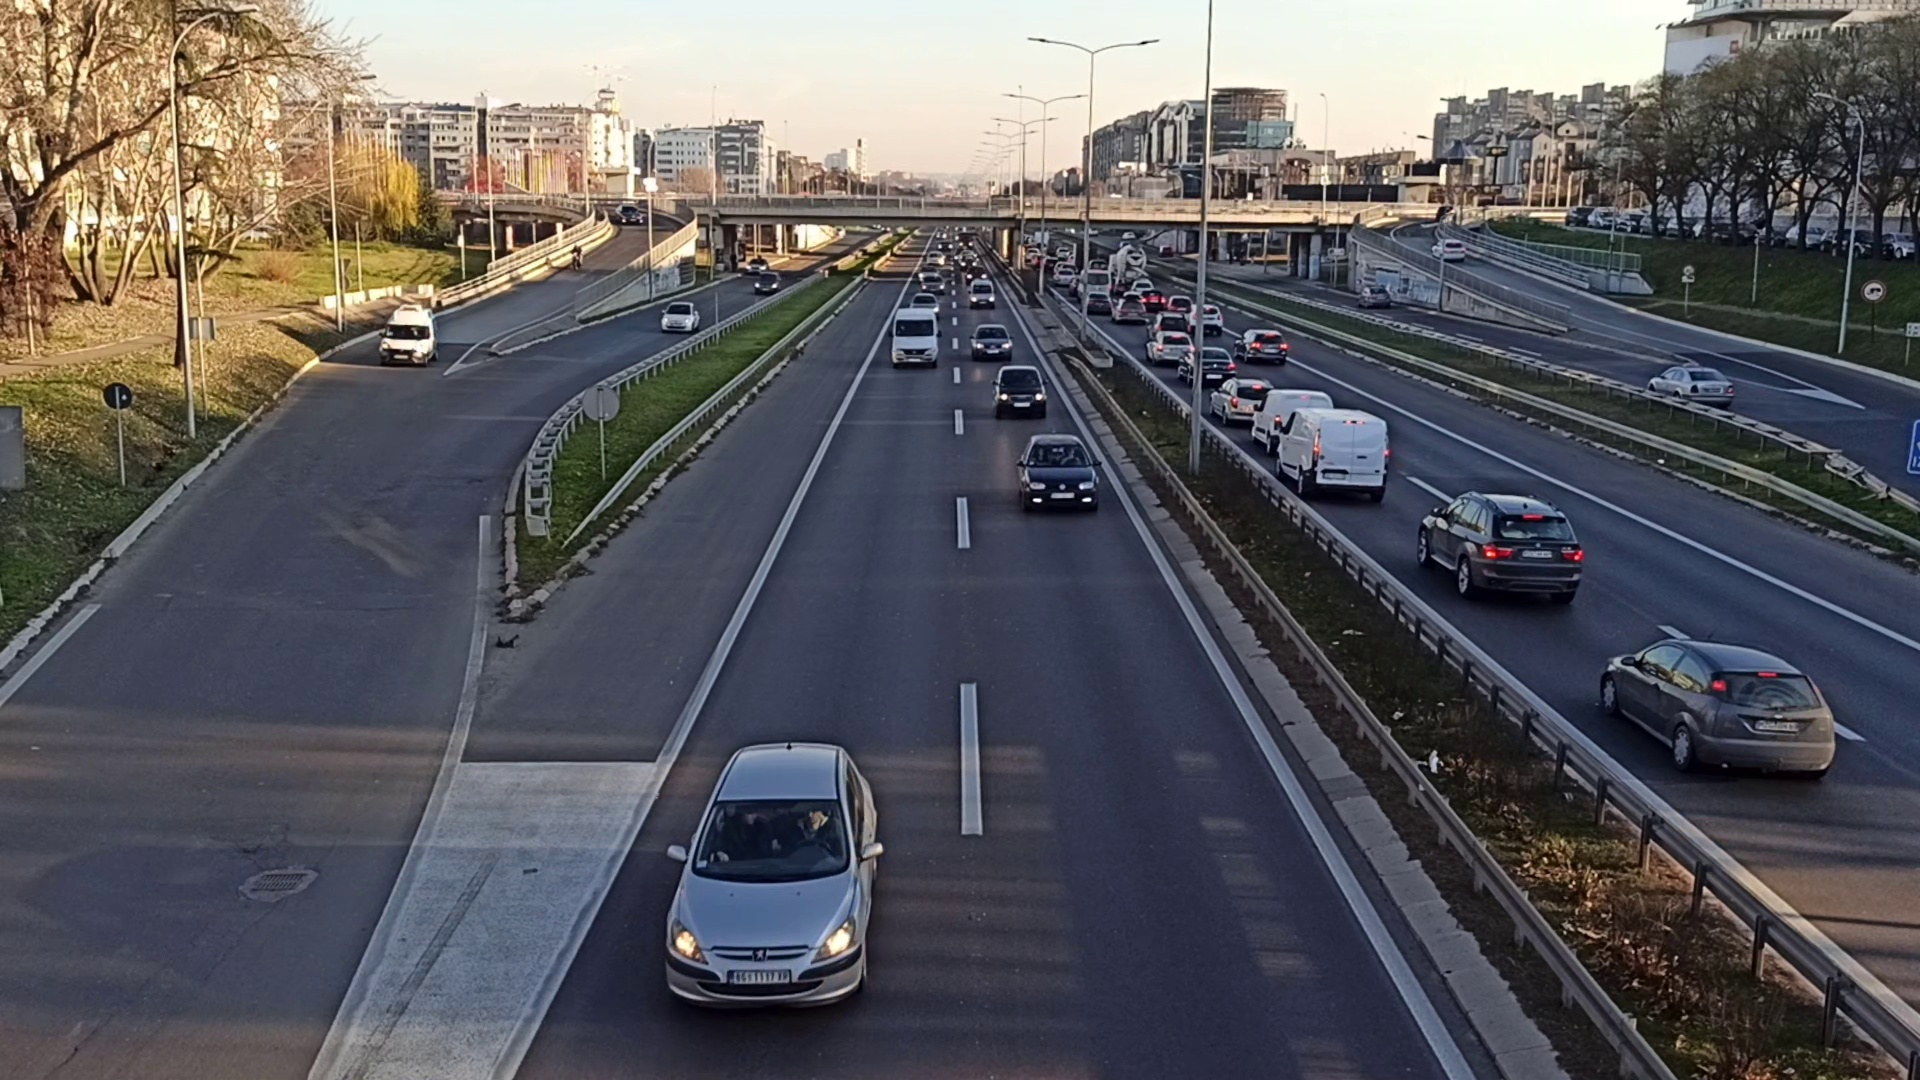car: (659, 738, 880, 1005), (1605, 638, 1837, 786), (1420, 491, 1582, 612), (1015, 434, 1100, 510), (1648, 364, 1734, 410), (996, 364, 1046, 415), (971, 322, 1010, 357), (661, 299, 702, 330)
van: (1278, 406, 1390, 502), (380, 305, 435, 364), (891, 310, 938, 367)
